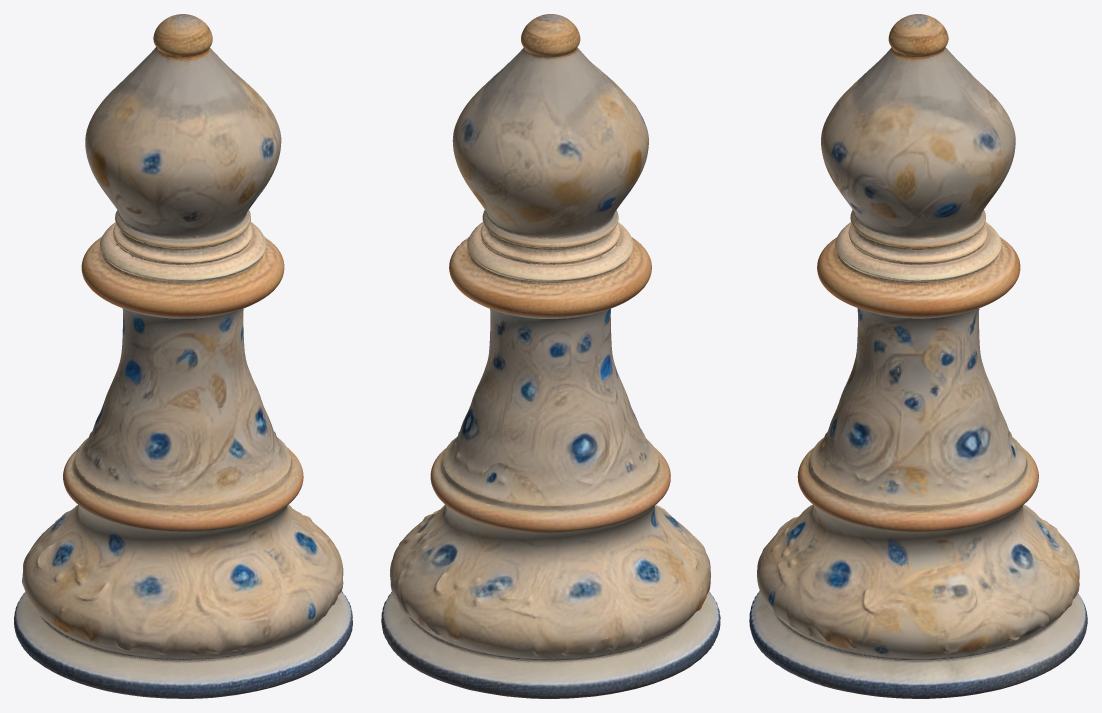
Rendered from pawn.glb.
The picture shows the model from 3 angles, left to right: view 1: azimuth 30°, elevation 25°; view 2: azimuth 150°, elevation 25°; view 3: azimuth 270°, elevation 25°; orthographic projection.
Visible parts, largest first — view 1: model; view 2: model; view 3: model.
Boxes of the visible parts, box(x1,y1,x2,y2) form: model: box(14, 14, 352, 698); model: box(381, 14, 720, 698); model: box(749, 14, 1087, 698).
Bounding box in the file's own units: 0.952 × 1.9 × 0.9501.
Materials: 1 (1 with a texture image).
